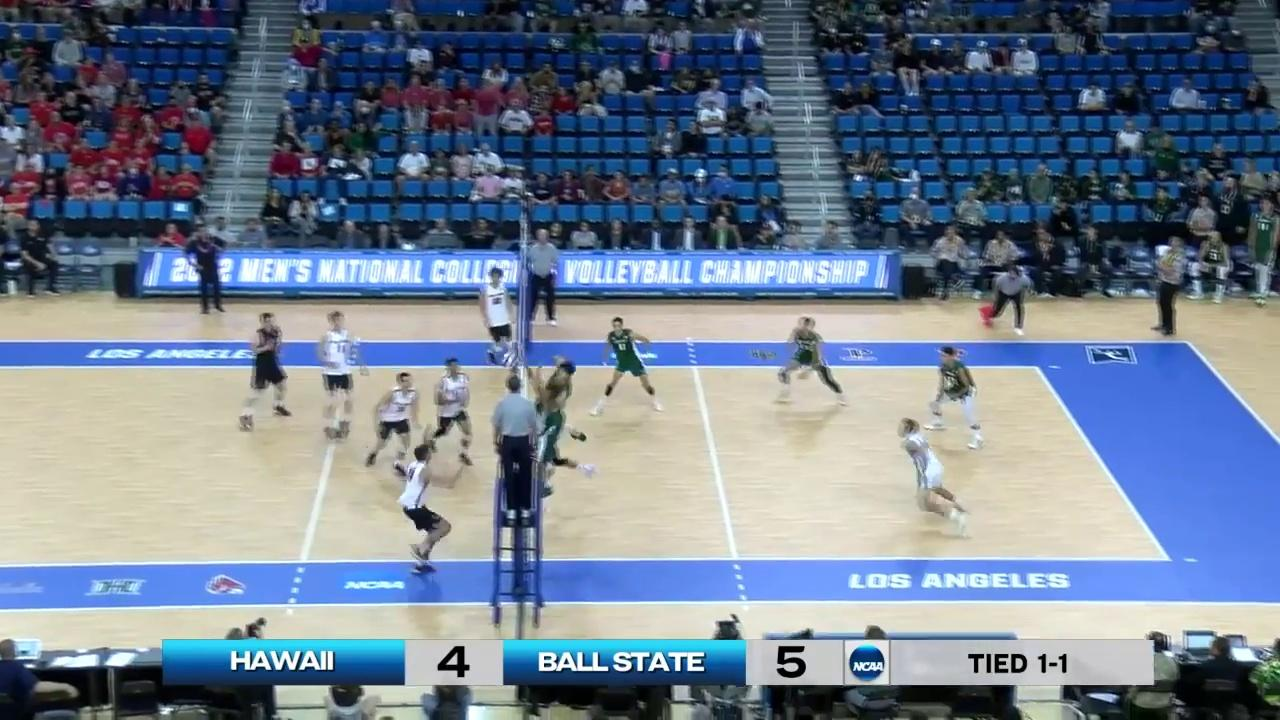player: (893, 419, 971, 533), (395, 445, 463, 573), (594, 317, 664, 416), (773, 317, 849, 405), (240, 314, 292, 430), (362, 372, 420, 475), (538, 357, 589, 473), (317, 311, 362, 442), (423, 358, 476, 468), (927, 347, 985, 447), (531, 387, 567, 523), (476, 267, 517, 371)
refree: (492, 375, 541, 513), (524, 229, 560, 326), (981, 268, 1031, 336)
